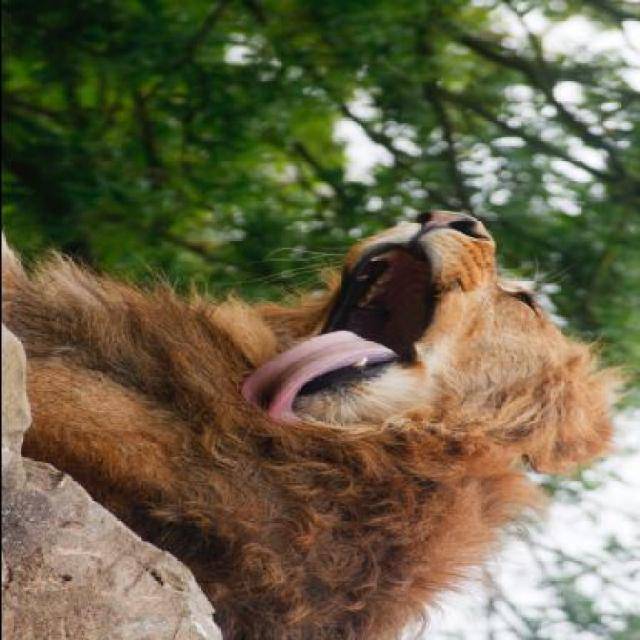Lion: (0, 206, 632, 638)
